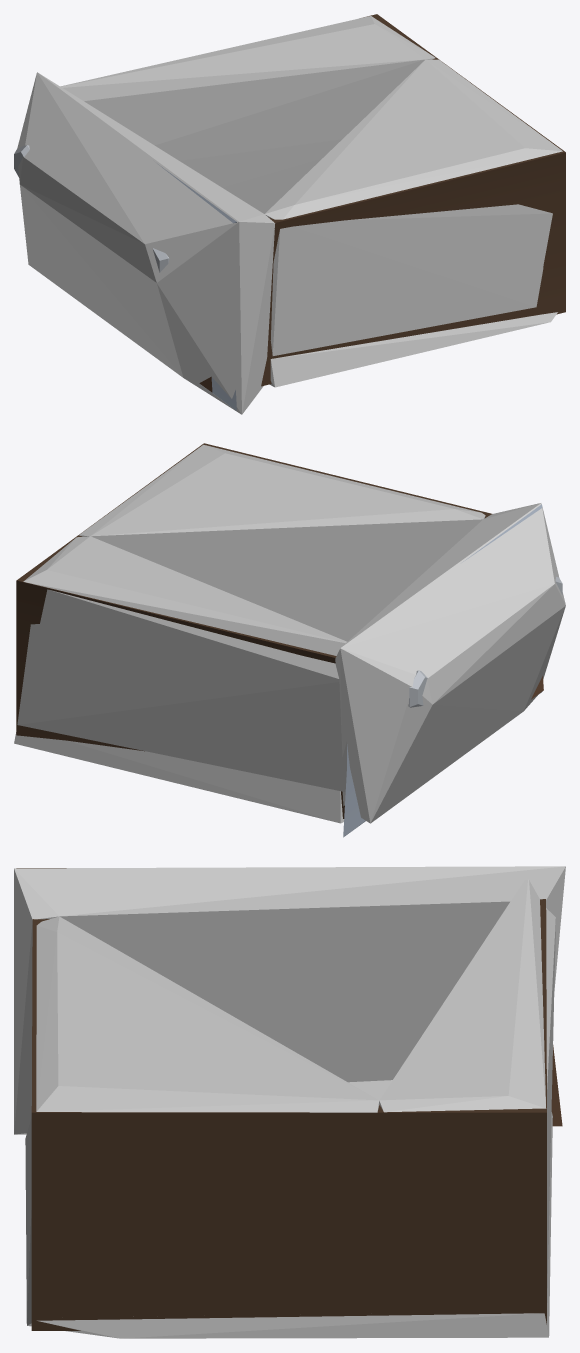
Rendered from SM_Prop_Bedside_Table_01_Drawer_01.fbx.
3 renders of one model, top to bottom at view 1: azimuth 30°, elevation 25°; view 2: azimuth 150°, elevation 25°; view 3: azimuth 270°, elevation 25°, orthographic. The views are drawn at different scales.
Visible parts, largest first — view 1: SM_Prop_Bedside_Table_01_Drawer_01_ConvexHulls, SM_Prop_Bedside_Table_01_Drawer_01; view 2: SM_Prop_Bedside_Table_01_Drawer_01_ConvexHulls, SM_Prop_Bedside_Table_01_Drawer_01; view 3: SM_Prop_Bedside_Table_01_Drawer_01_ConvexHulls, SM_Prop_Bedside_Table_01_Drawer_01.
Boxes of the visible parts, x1,y1,x2,y2 form: SM_Prop_Bedside_Table_01_Drawer_01_ConvexHulls: [17, 16, 562, 414]; SM_Prop_Bedside_Table_01_Drawer_01: [14, 14, 565, 410]; SM_Prop_Bedside_Table_01_Drawer_01_ConvexHulls: [14, 444, 565, 823]; SM_Prop_Bedside_Table_01_Drawer_01: [16, 443, 562, 837]; SM_Prop_Bedside_Table_01_Drawer_01_ConvexHulls: [14, 866, 565, 1338]; SM_Prop_Bedside_Table_01_Drawer_01: [16, 868, 562, 1330].
Size of the model in its own units: 60.73 by 54.49 by 29.03.
2 materials, 1 textured.
